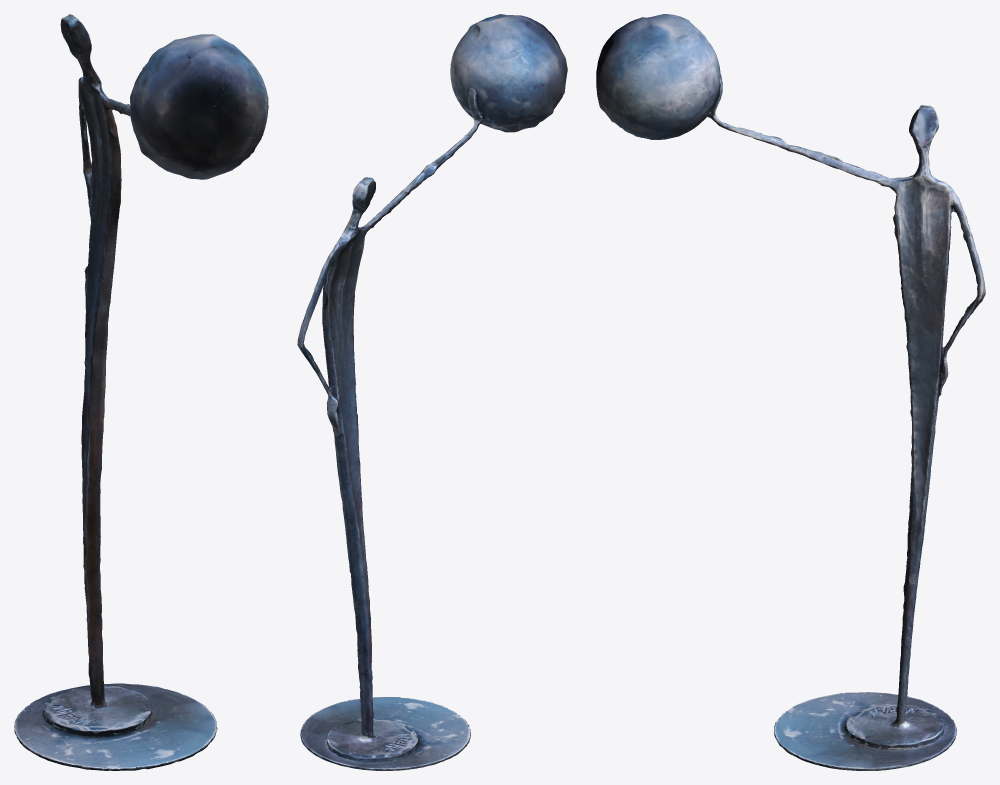
The model's file is sphld_crps.glb.
The picture shows the model from 3 angles, left to right: view 1: azimuth 30°, elevation 25°; view 2: azimuth 150°, elevation 25°; view 3: azimuth 270°, elevation 25°; orthographic projection. The views are drawn at different scales.
Parts seen in each view (by area): view 1: model.001; view 2: model.001; view 3: model.001.
Boxes of the visible parts, x1,y1,x2,y2 form: model.001: (14,14,268,770); model.001: (297,14,567,770); model.001: (596,14,985,770).
Bounding box in the file's own units: 0.0742 × 0.3055 × 0.1545.
1 material, 1 textured.
